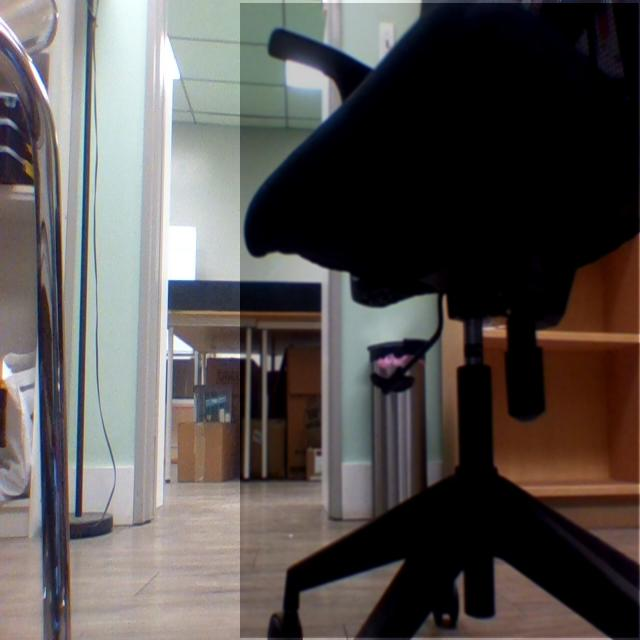black-chair: (240, 3, 640, 639)
